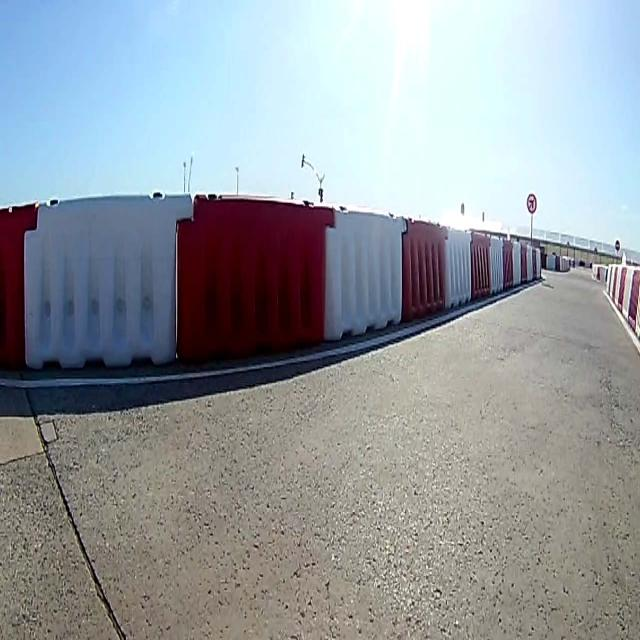soladonulmez: (527, 193, 537, 214)
